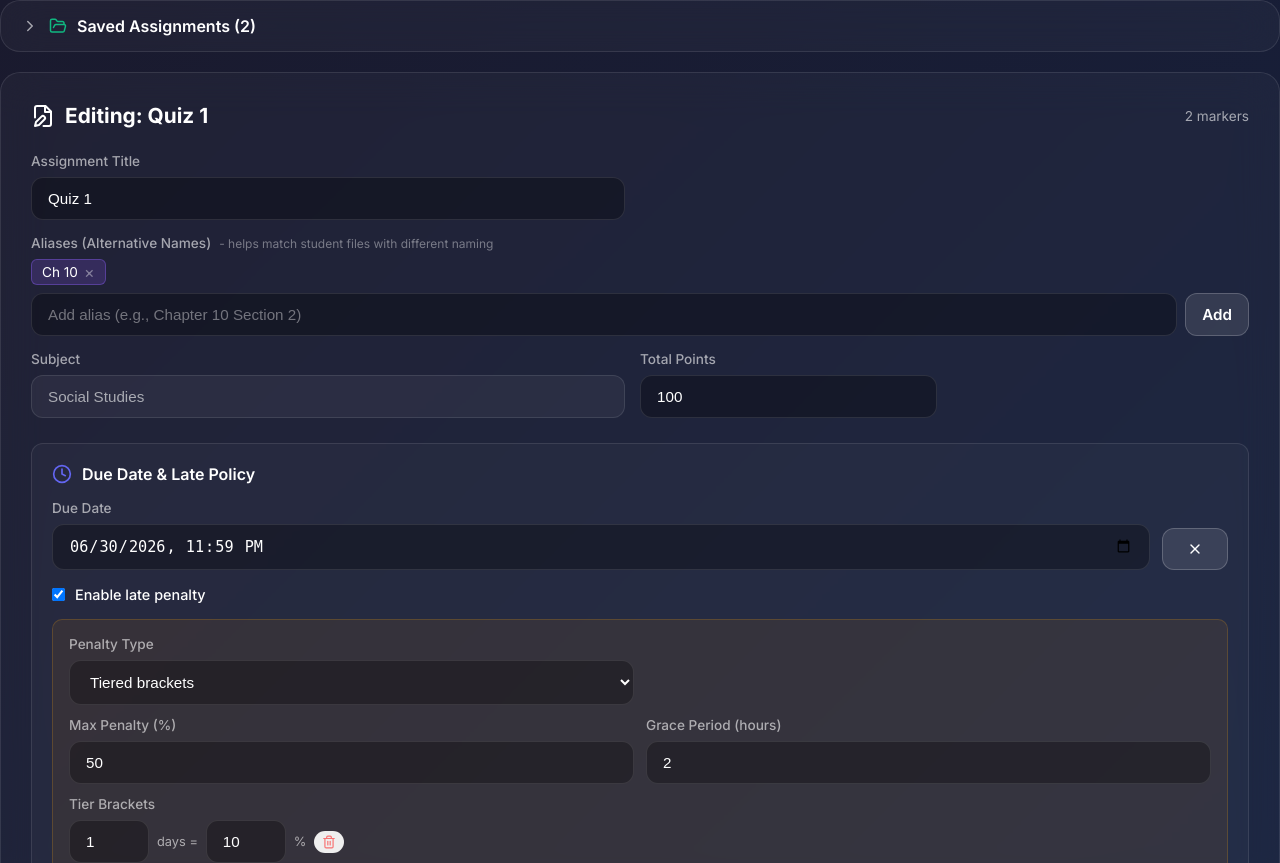
BuilderTab mounts without crashing (render-time smoke) › expands the saved-assignments card on click (local state threading through SavedAssignmentsCard)
Expected: the text "Old HW" is not shown
Click the heading "Saved Assignments (2)": (138, 26) [21,16,256,36]
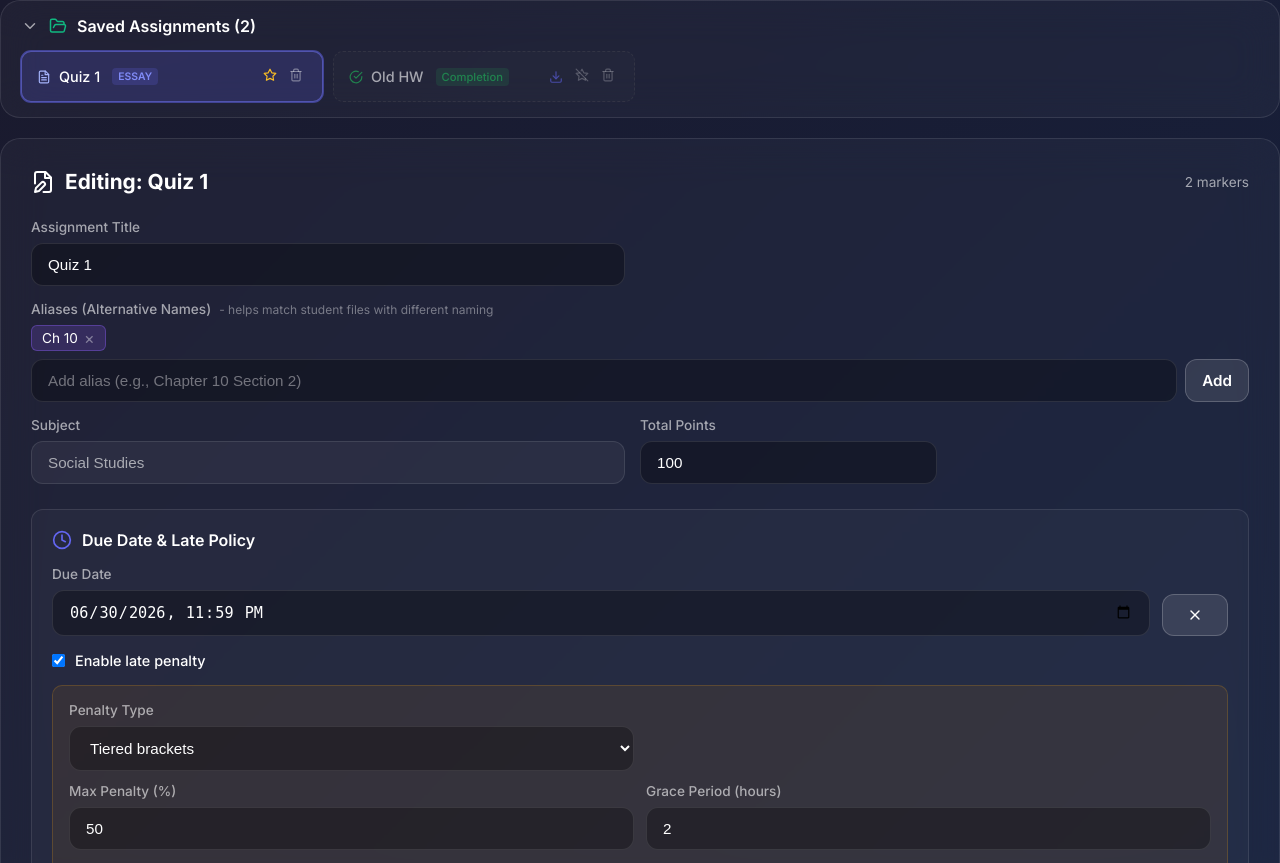
Expected: the text "Old HW" is shown, [371,68,424,85]
Expected: the text "Completion" is shown, [436,68,509,86]
Expected: the text "essay" is shown, [112,68,158,85]
